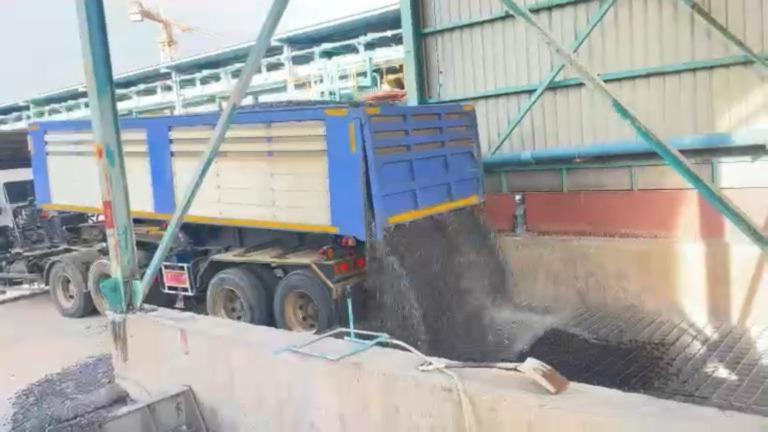gravel: (362, 210, 514, 359), (5, 354, 128, 431)
